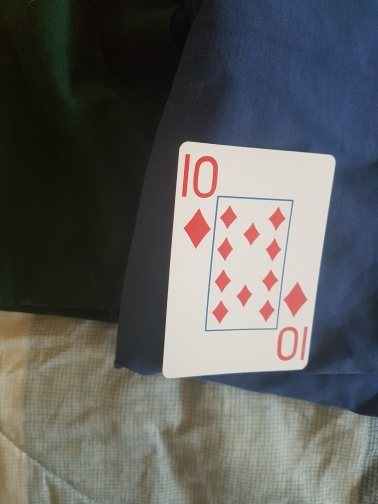ten: (161, 141, 337, 380)
